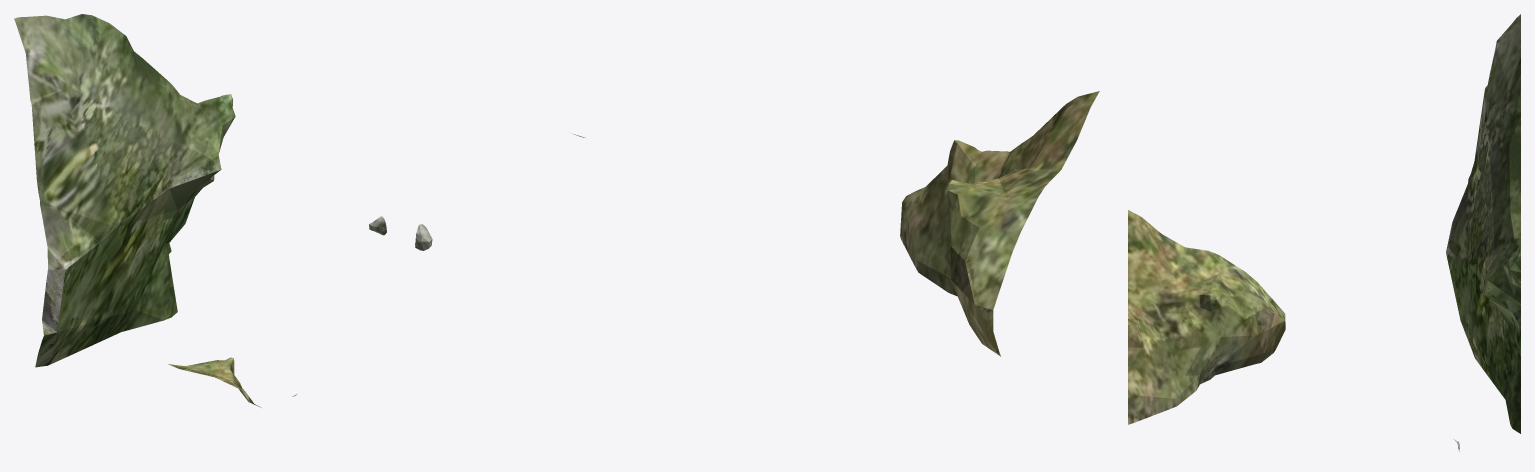
3 views of the same model, side by side, from view 1: azimuth 30°, elevation 25°; view 2: azimuth 150°, elevation 25°; view 3: azimuth 270°, elevation 25° (orthographic). The views are drawn at different scales.
Bounding box in the file's own units: 2.95 × 2.81 × 2.95.
Materials: 2 (2 with a texture image).
